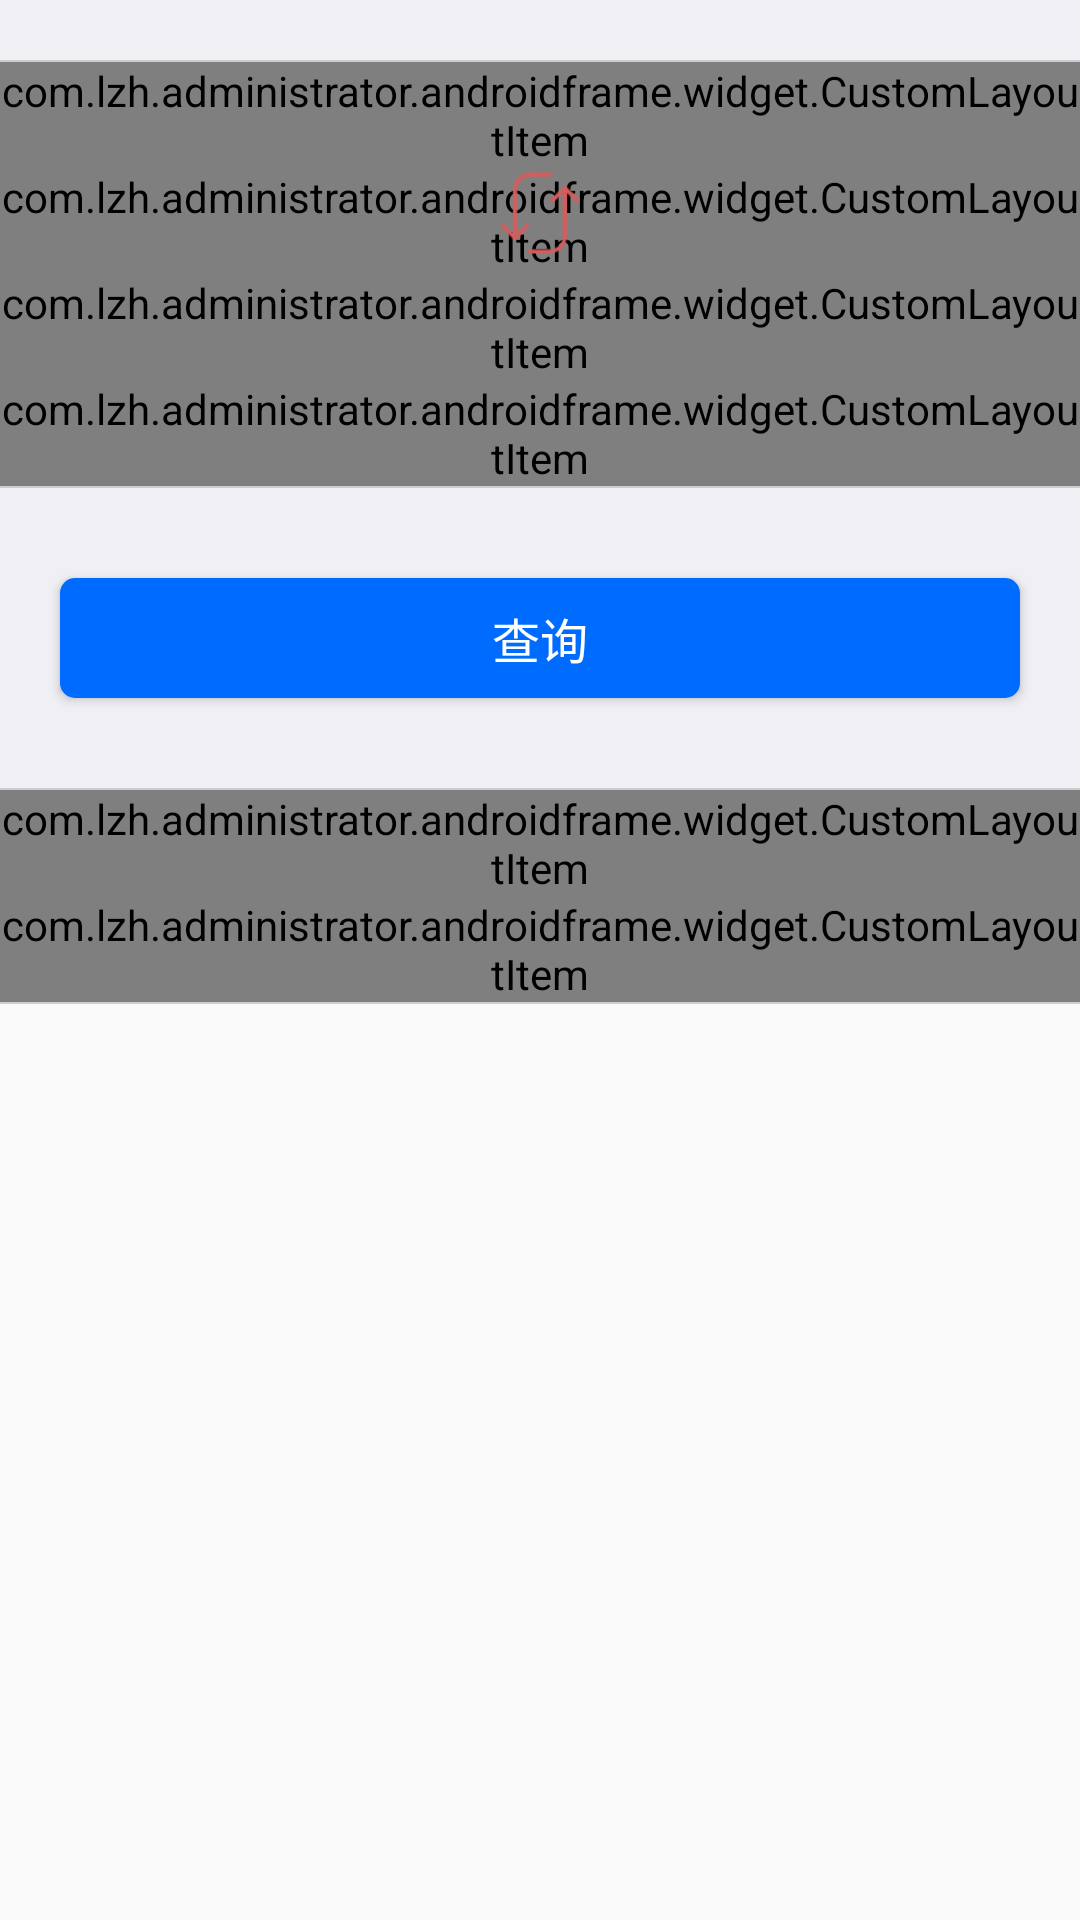

Icon bounding boxes for this 1080×1920 phone screenshot, format (x1, y1, x2, y2):
replace: (492, 172, 588, 261)
